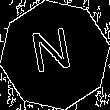N_S: (31, 27, 79, 83)
